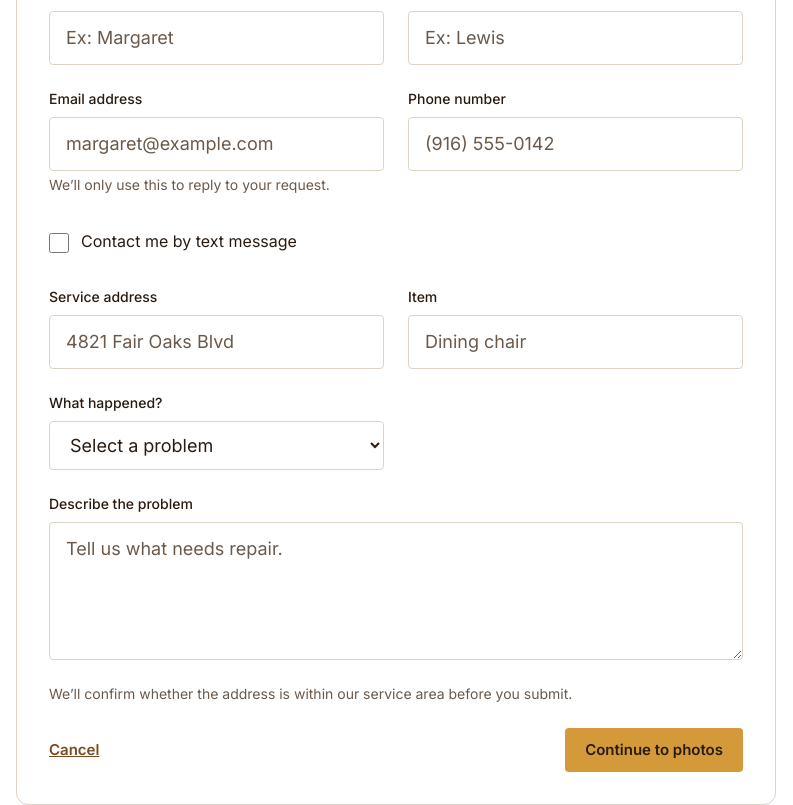
Scenario: EstimateStep1Form › shows associated errors for missing fields, focuses the first, and blocks the API and continuation
(page scrolled)
Click the button "Continue to photos" at {"x": 654, "y": 750}, box [565, 728, 743, 772]
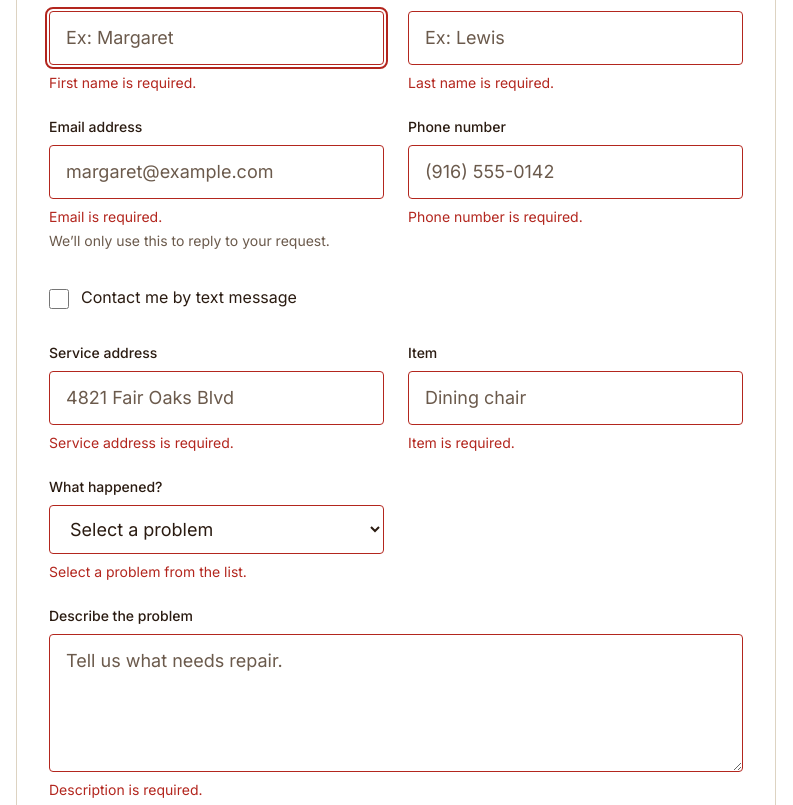
Expected: the number of messages is 8
